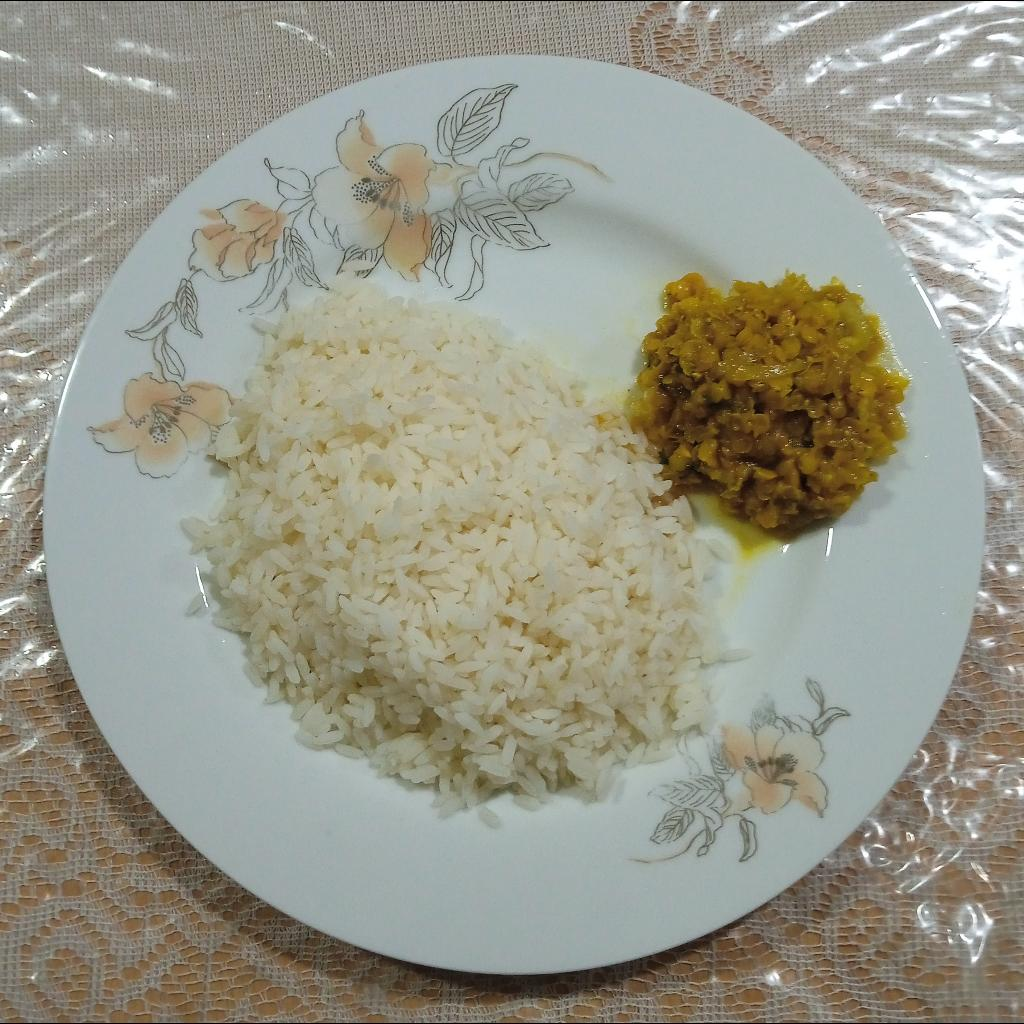daal: (633, 268, 911, 531)
rice: (183, 260, 751, 828)
